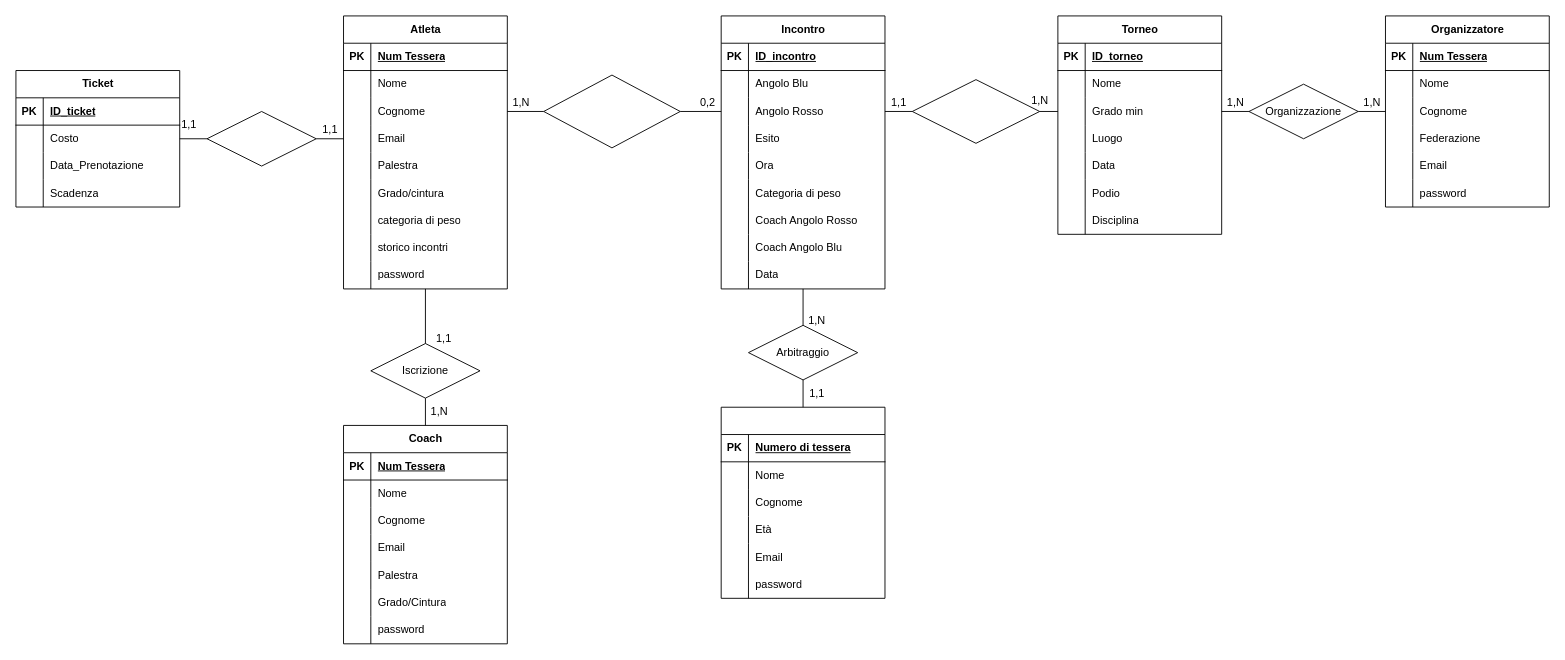
The diagram is 1565 pixels wide and 660 high, and some of its shapes have lost their labels. The shapes that lost their labels are listed below. From the top down, each one's box as (x1, y1, x2, y2) in pixels, then its label:
(543, 74, 680, 148): Partecipazione
(911, 79, 1040, 143): Rientramento
(206, 111, 316, 166): Scaricamento
(720, 406, 885, 598): Arbitro
